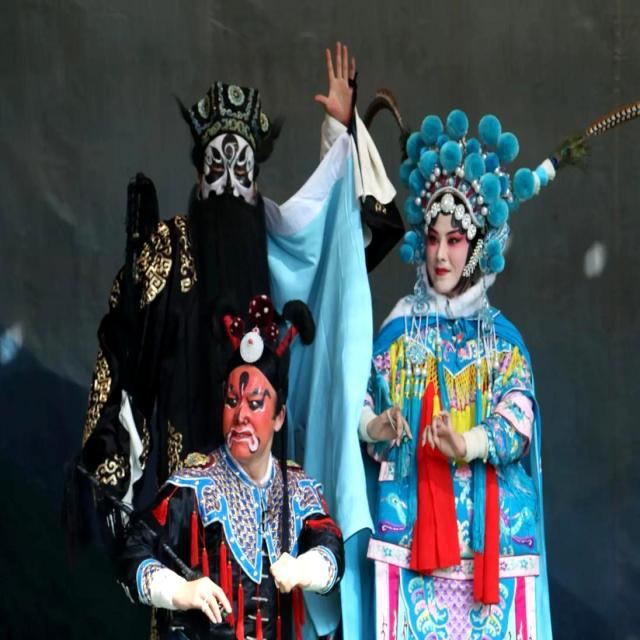Reeves-s Pheasant: (549, 101, 639, 169), (364, 89, 411, 158)
